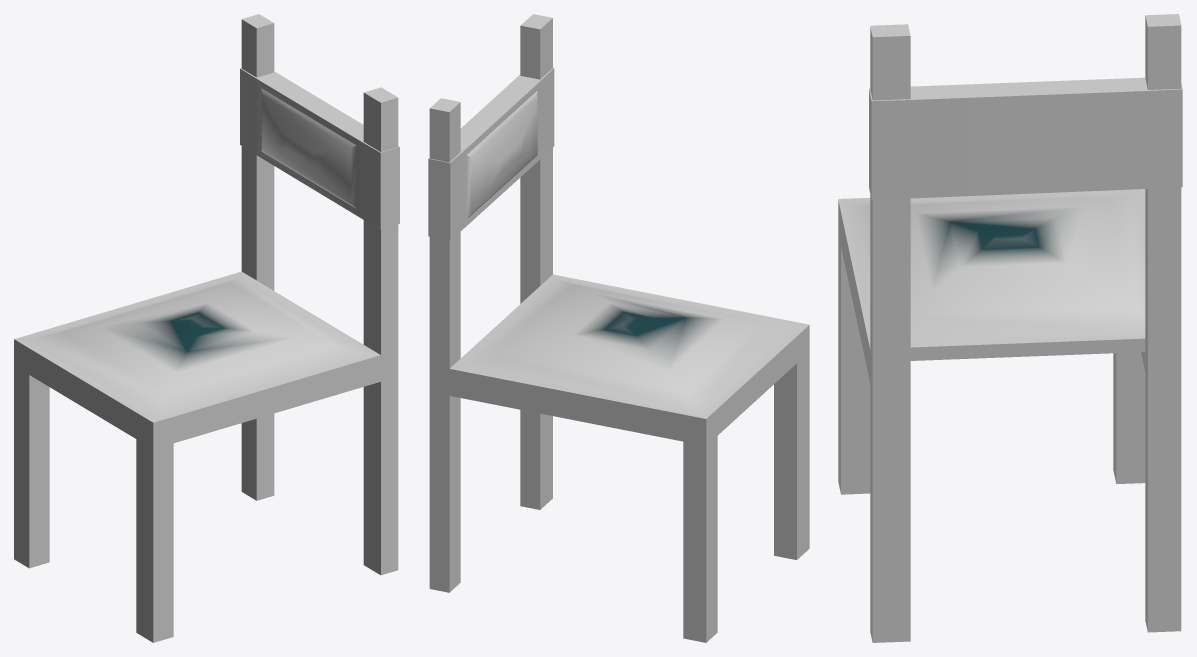
Rendered from Chair.fbx.
3 views of the same model, side by side, from view 1: azimuth 30°, elevation 25°; view 2: azimuth 150°, elevation 25°; view 3: azimuth 270°, elevation 25° (orthographic). The views are drawn at different scales.
Visible parts, largest first — view 1: Chair 2; view 2: Chair 2; view 3: Chair 2.
Part boxes in pixels (box(x1,y1,x2,y2)): Chair 2: box(14, 14, 399, 642); Chair 2: box(428, 14, 809, 642); Chair 2: box(838, 14, 1182, 642).
Bounding box in the file's own units: 134 × 217 × 112.
